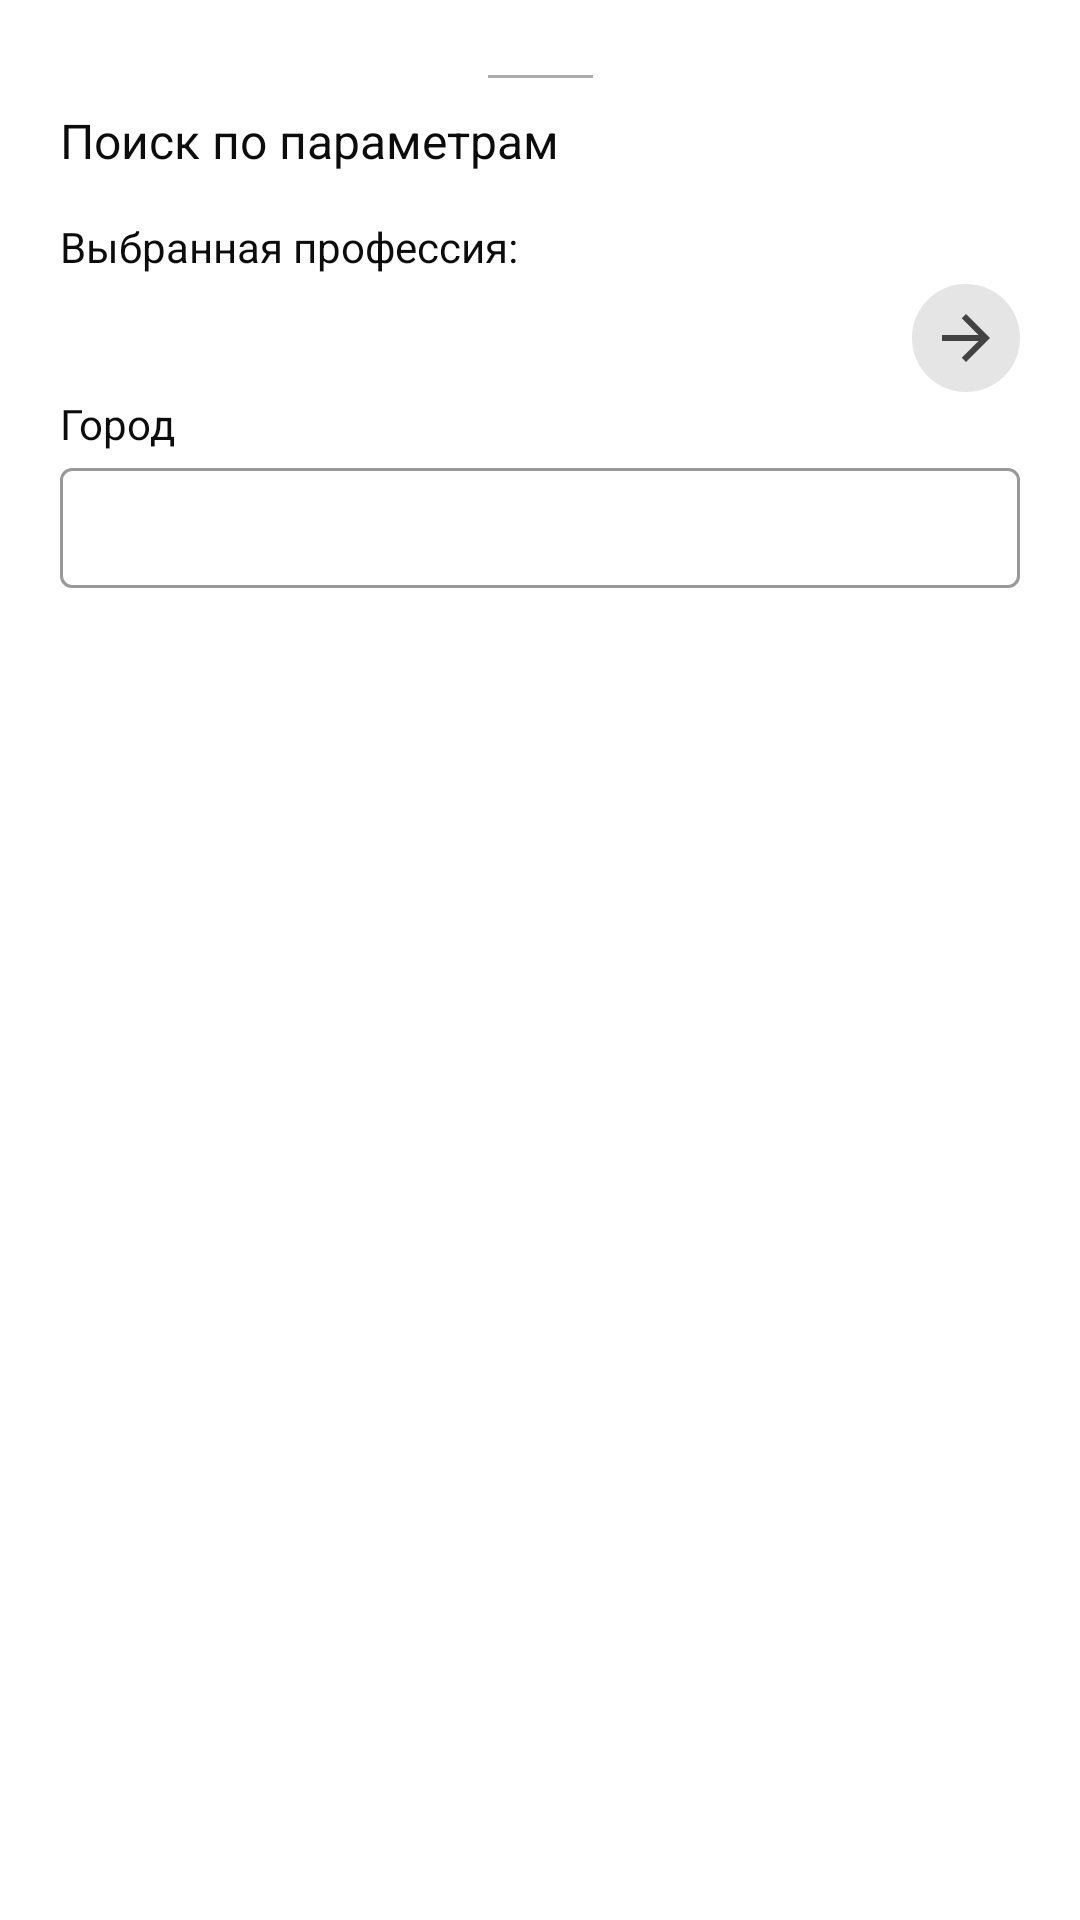

Point at icon controls on the screen. Image size 1080 × 1920, points as point (x, y).
arrow forward: point (966, 338)
